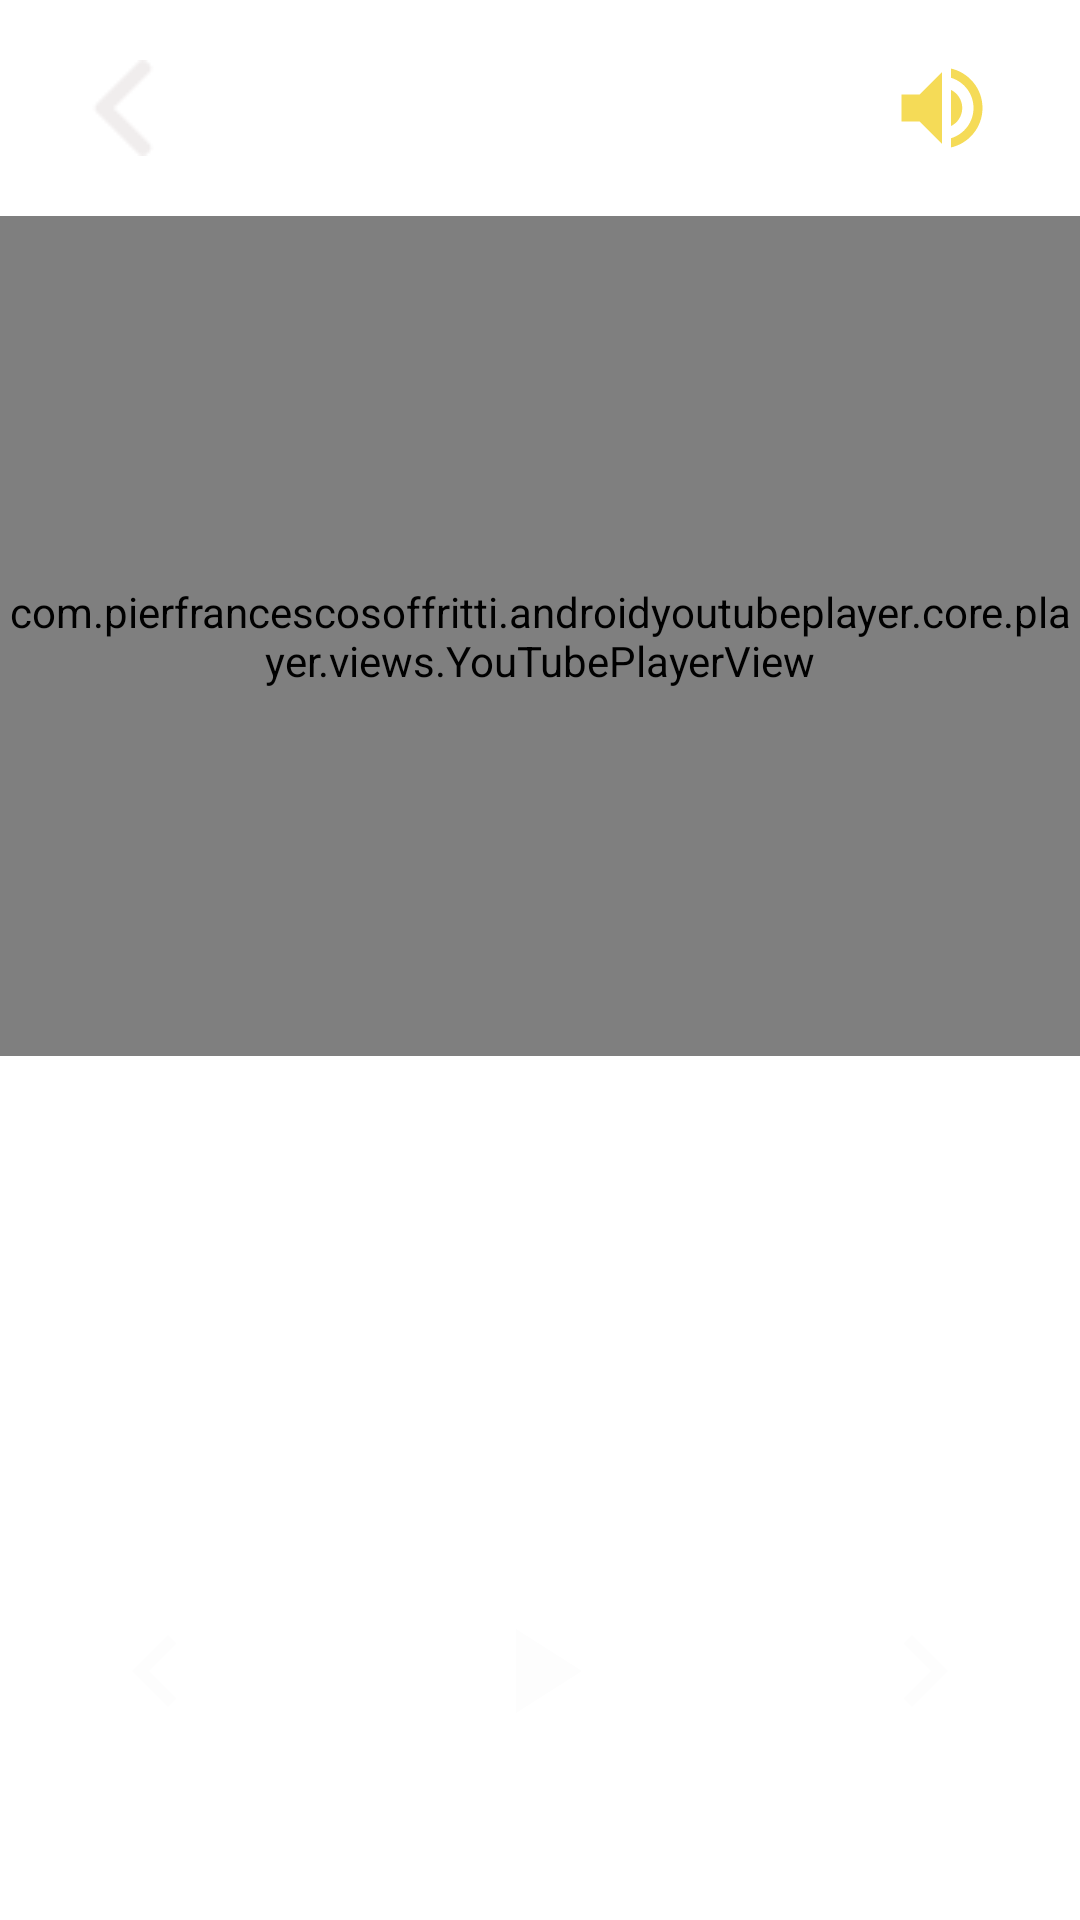

Screen size 1080px x 1920px. Icon name, then its center in pixels as (x=x, y=y):
volume up: (x=942, y=108)
